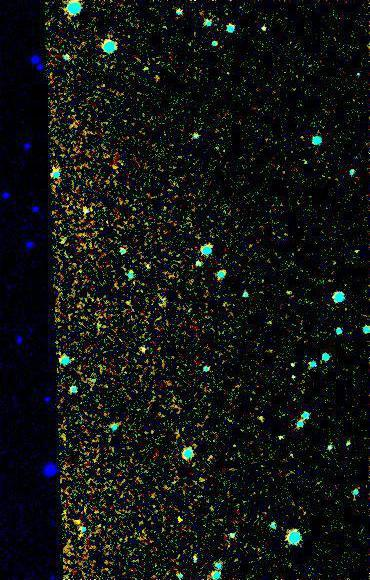star: (62, 510, 92, 540)
